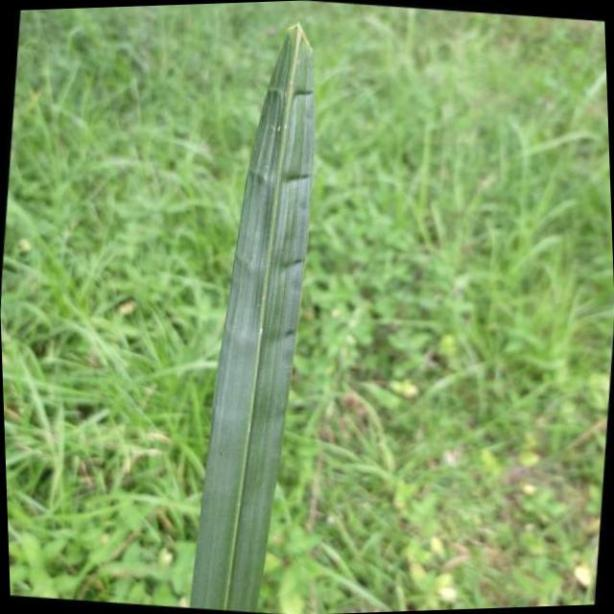Boron: (193, 18, 328, 610)
